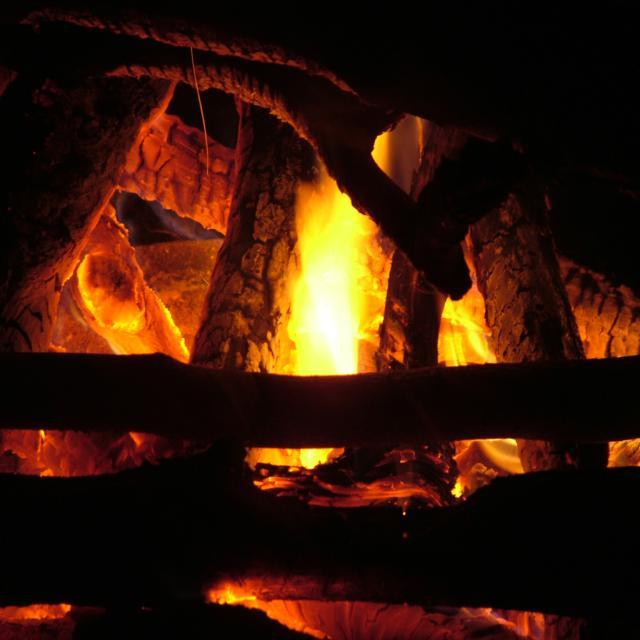Fire: (301, 190, 360, 376)
